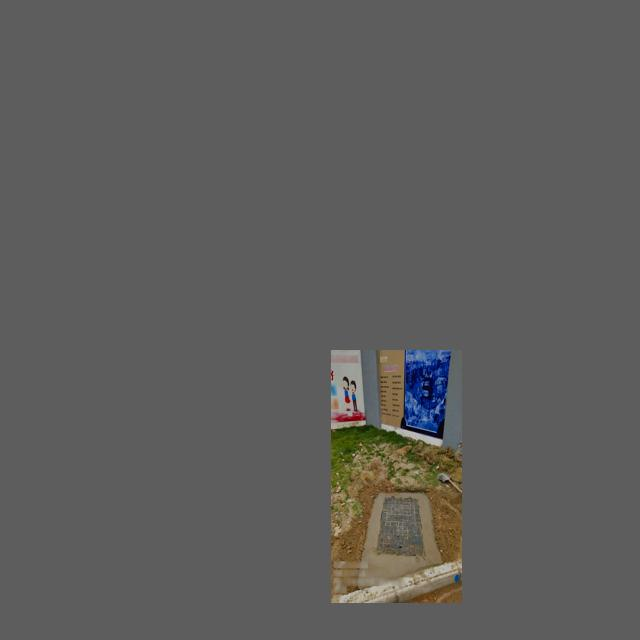good: (375, 496, 427, 557)
